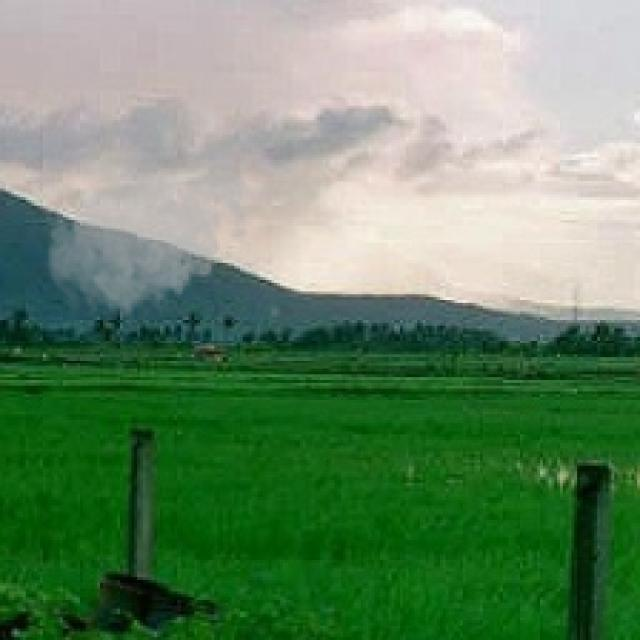Smoke: (40, 100, 263, 326)
